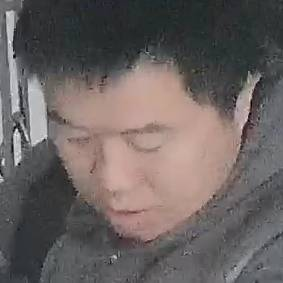cb: (1, 18, 265, 247)
